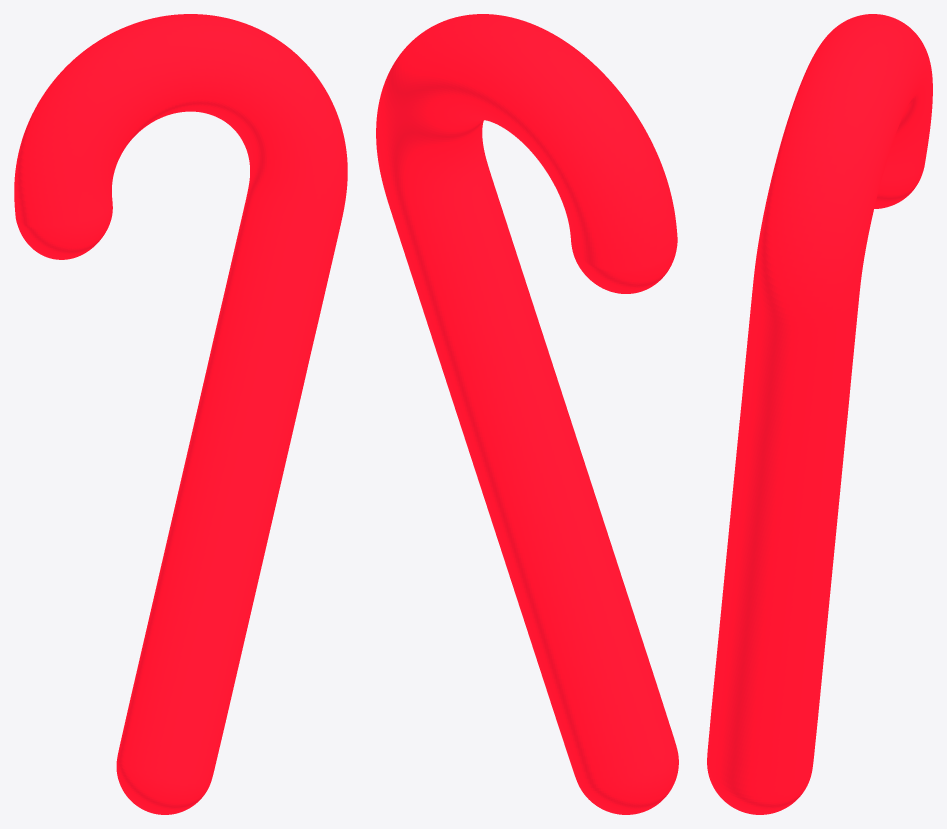
File: Candy cane.c4d.fbx
3 views of the same model, side by side, from view 1: azimuth 30°, elevation 25°; view 2: azimuth 150°, elevation 25°; view 3: azimuth 270°, elevation 25° (orthographic). The views are drawn at different scales.
Parts seen in each view (by area): view 1: ZBrush_defualt_group; view 2: ZBrush_defualt_group; view 3: ZBrush_defualt_group.
Boxes of the visible parts, box(x1,y1,x2,y2) form: ZBrush_defualt_group: box(14, 14, 347, 814); ZBrush_defualt_group: box(376, 14, 678, 814); ZBrush_defualt_group: box(707, 14, 932, 814).
Bounding box in the file's own units: 47.7 × 116 × 29.36.
